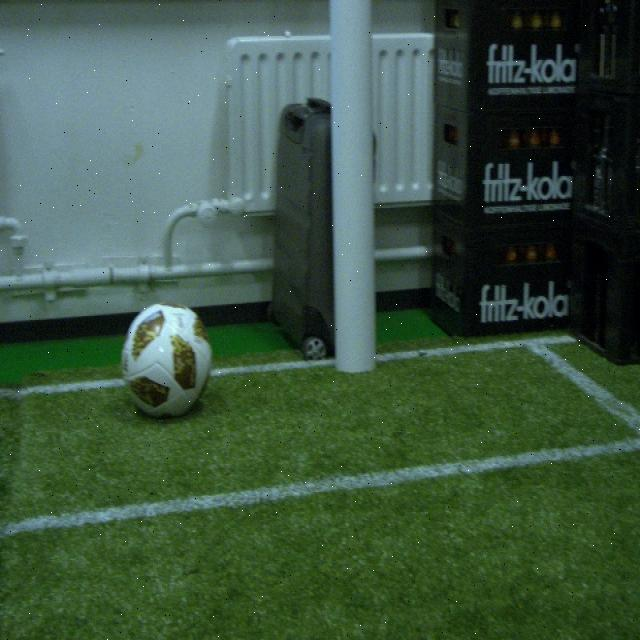ball: (116, 301, 215, 419)
goalpost: (330, 0, 379, 372)
